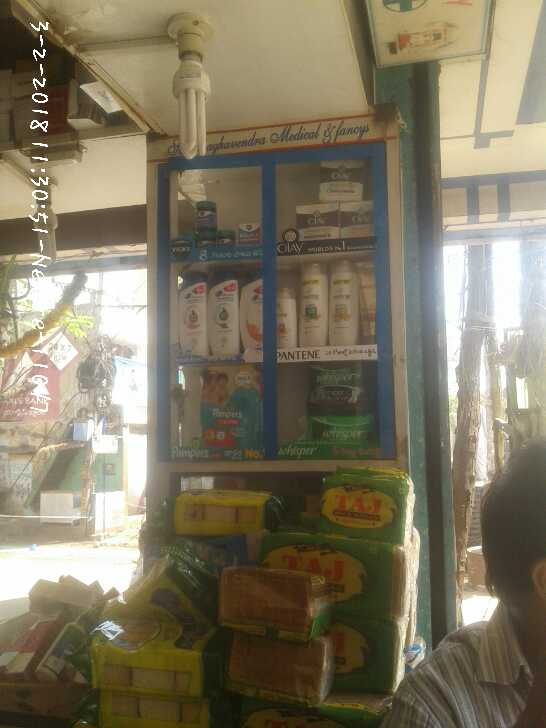vicks: (195, 200, 261, 254)
